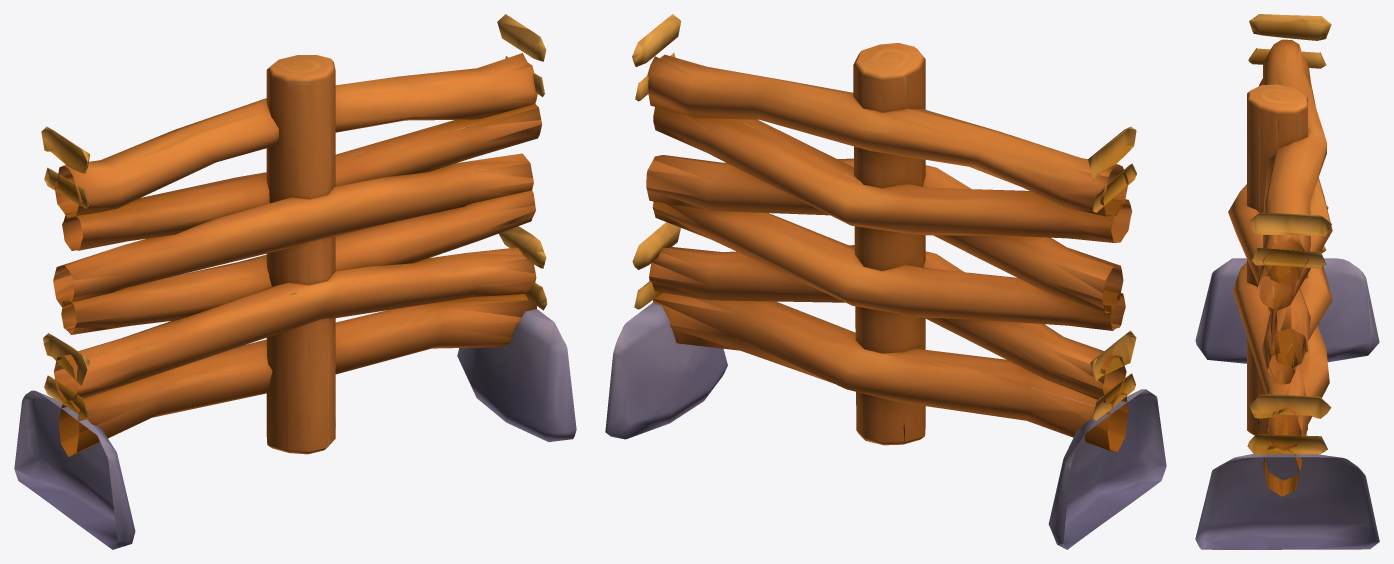
The model's file is fence_rail_bare.glb.
3 renders of one model, left to right at view 1: azimuth 30°, elevation 25°; view 2: azimuth 150°, elevation 25°; view 3: azimuth 270°, elevation 25°, orthographic. The views are drawn at different scales.
Visible parts, largest first — view 1: fence_rail; view 2: fence_rail; view 3: fence_rail.
Boxes of the visible parts, left/top/right/bottom form: fence_rail: left=14, top=14, right=576, bottom=549; fence_rail: left=605, top=14, right=1166, bottom=549; fence_rail: left=1195, top=14, right=1379, bottom=549.
Size of the model in its own units: 0.4028 by 0.3359 by 0.1575.
1 material, 1 textured.
